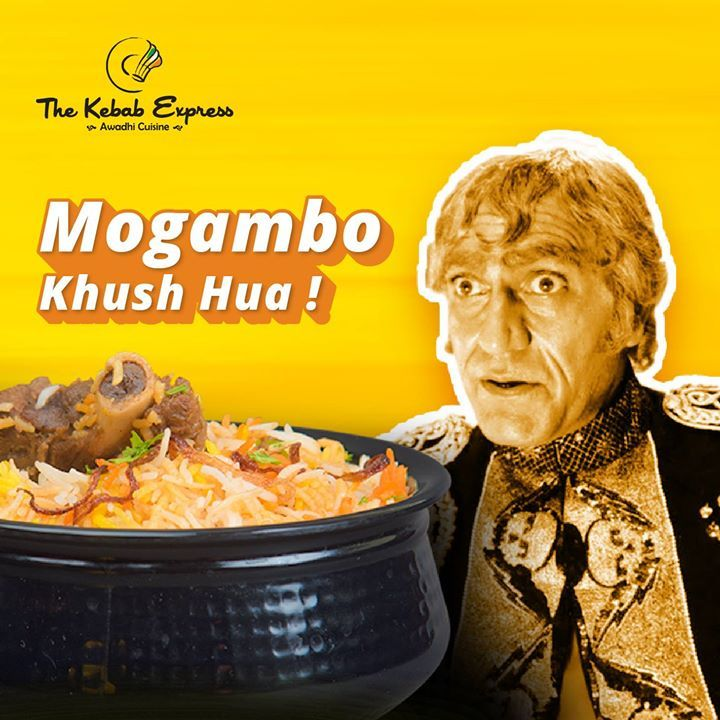Headline: (24, 187, 400, 333)
Product: (0, 355, 432, 541)
logo: (30, 37, 240, 137)
